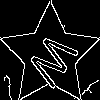W: (25, 30, 87, 95)
